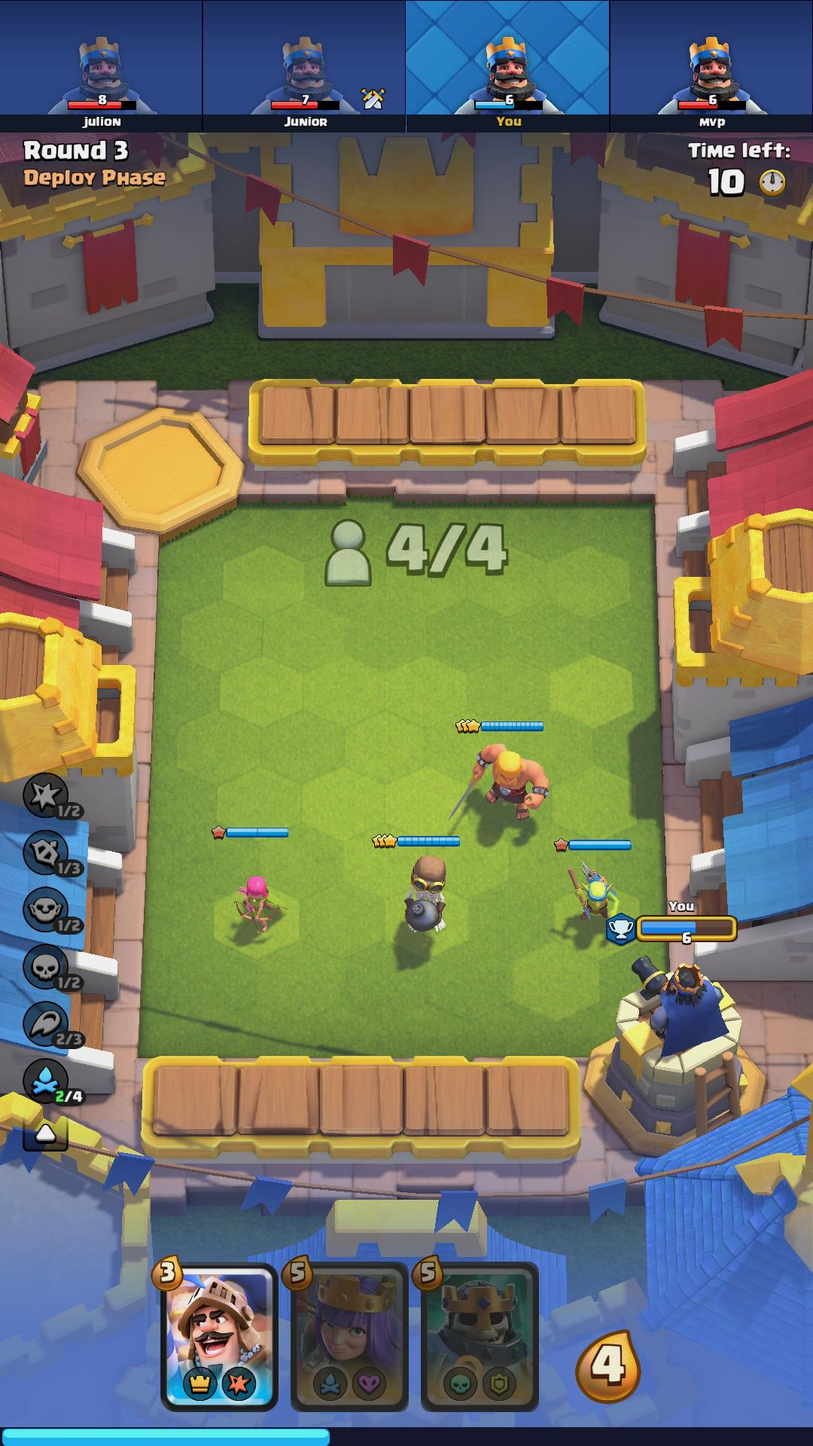archer: (232, 870, 279, 936)
barbarian: (463, 738, 548, 820)
bomber: (390, 847, 456, 939)
hand-king: (421, 1266, 534, 1405)
hand-prince: (162, 1270, 271, 1401)
hand-queen: (290, 1269, 407, 1402)
spear: (559, 861, 623, 920)
